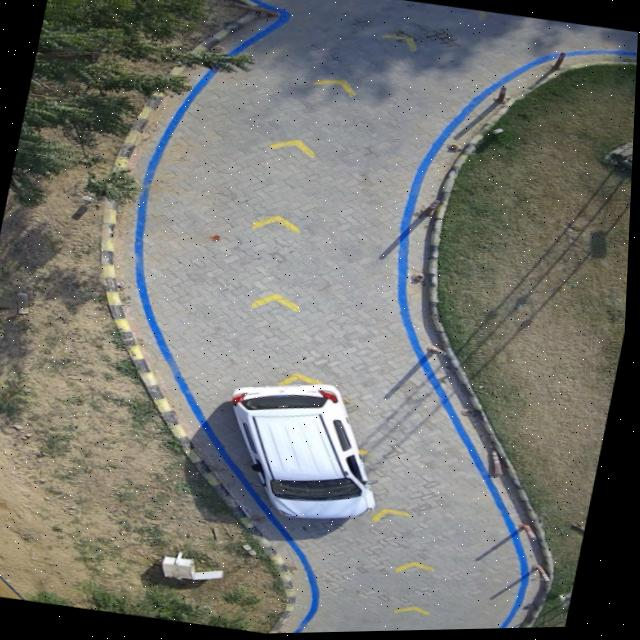car: (235, 385, 380, 520)
